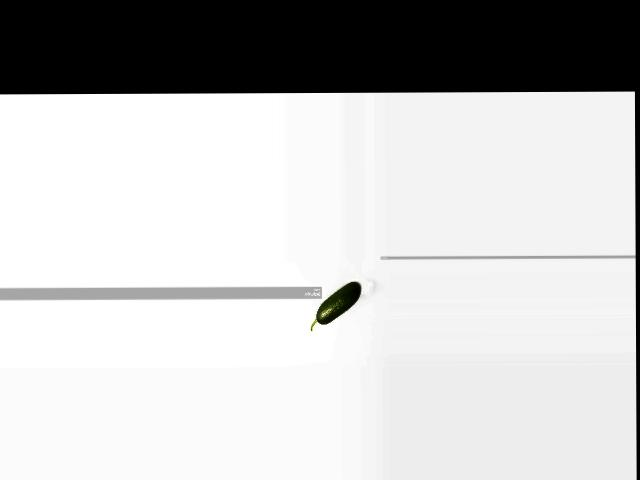cucumber: (309, 280, 360, 330)
